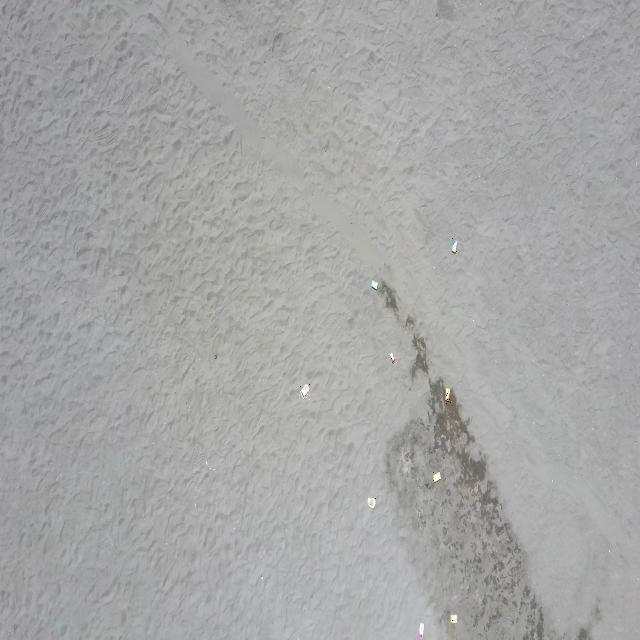Garbage: (300, 384, 308, 397), (417, 623, 423, 639), (367, 496, 375, 507), (451, 236, 456, 252), (432, 472, 440, 482), (444, 387, 449, 402), (369, 280, 377, 289), (449, 613, 456, 623), (388, 352, 392, 363)
